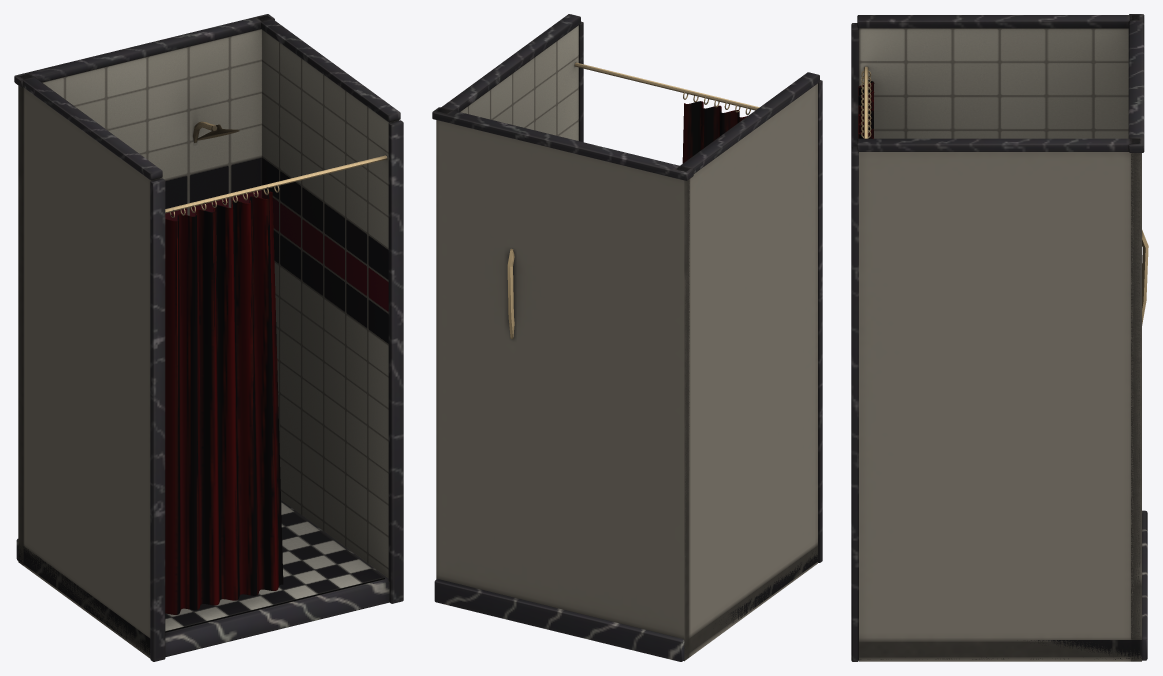
File: ShowerStall.fbx
The picture shows the model from 3 angles, left to right: view 1: azimuth 30°, elevation 25°; view 2: azimuth 150°, elevation 25°; view 3: azimuth 270°, elevation 25°; orthographic projection. The views are drawn at different scales.
Parts seen in each view (by area): view 1: ShowerStall; view 2: ShowerStall; view 3: ShowerStall.
Part boxes in pixels (box(x1,y1,x2,y2)): ShowerStall: box(14, 14, 403, 661); ShowerStall: box(432, 14, 822, 661); ShowerStall: box(851, 14, 1148, 661).
Size of the model in its own units: 422 by 772 by 401.
